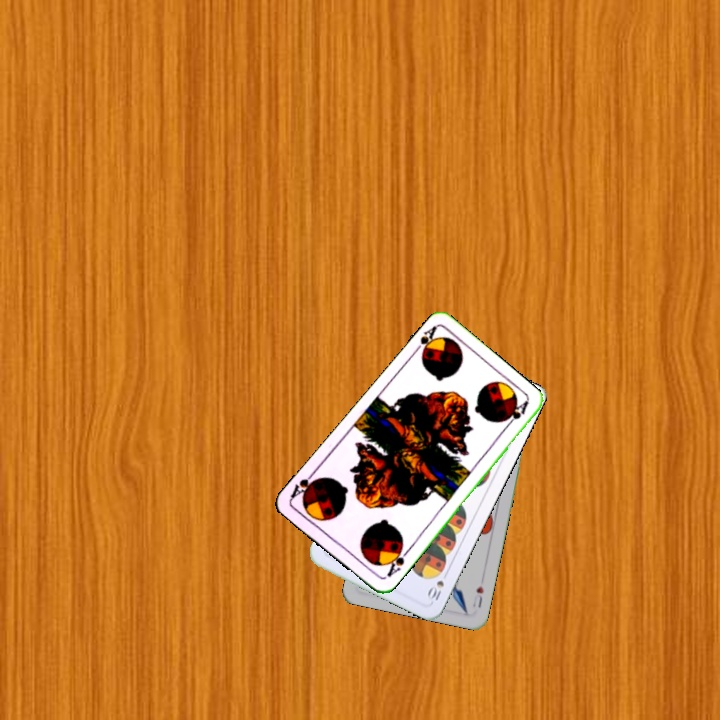HU: (468, 581, 486, 610)
S10: (423, 567, 451, 605)
SA: (409, 322, 442, 361), (381, 542, 411, 581)
